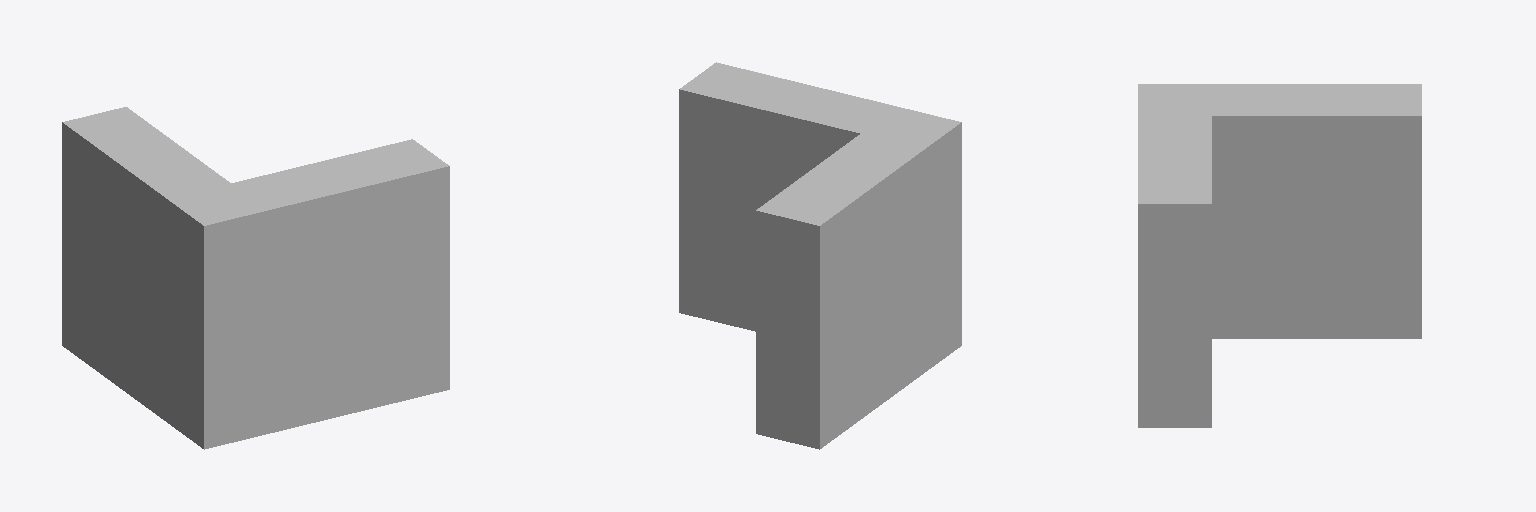
The model's file is SM_FoundationWallCorner.obj.
3 views of the same model, side by side, from view 1: azimuth 30°, elevation 25°; view 2: azimuth 150°, elevation 25°; view 3: azimuth 270°, elevation 25° (orthographic).
Visible parts, largest first — view 1: FoundationWallCorner; view 2: FoundationWallCorner; view 3: FoundationWallCorner.
Part boxes in pixels (bbox=[...]): FoundationWallCorner: bbox=[62, 107, 449, 449]; FoundationWallCorner: bbox=[679, 62, 961, 449]; FoundationWallCorner: bbox=[1138, 84, 1421, 427].
Bounding box in the file's own units: 1.15 × 1 × 1.15.